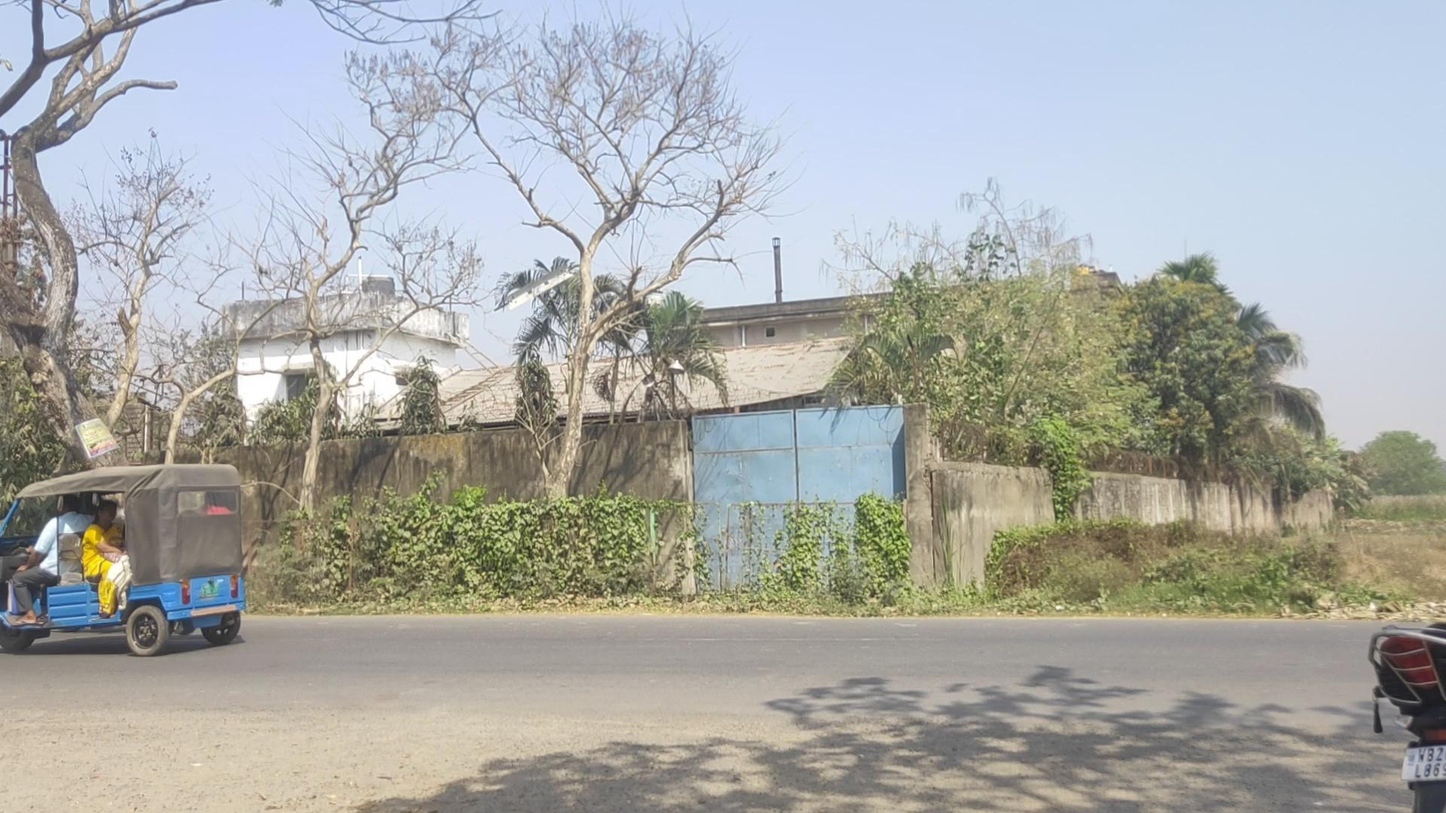Auto: (1, 464, 246, 658)
